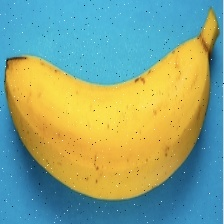banana: (3, 54, 204, 211)
